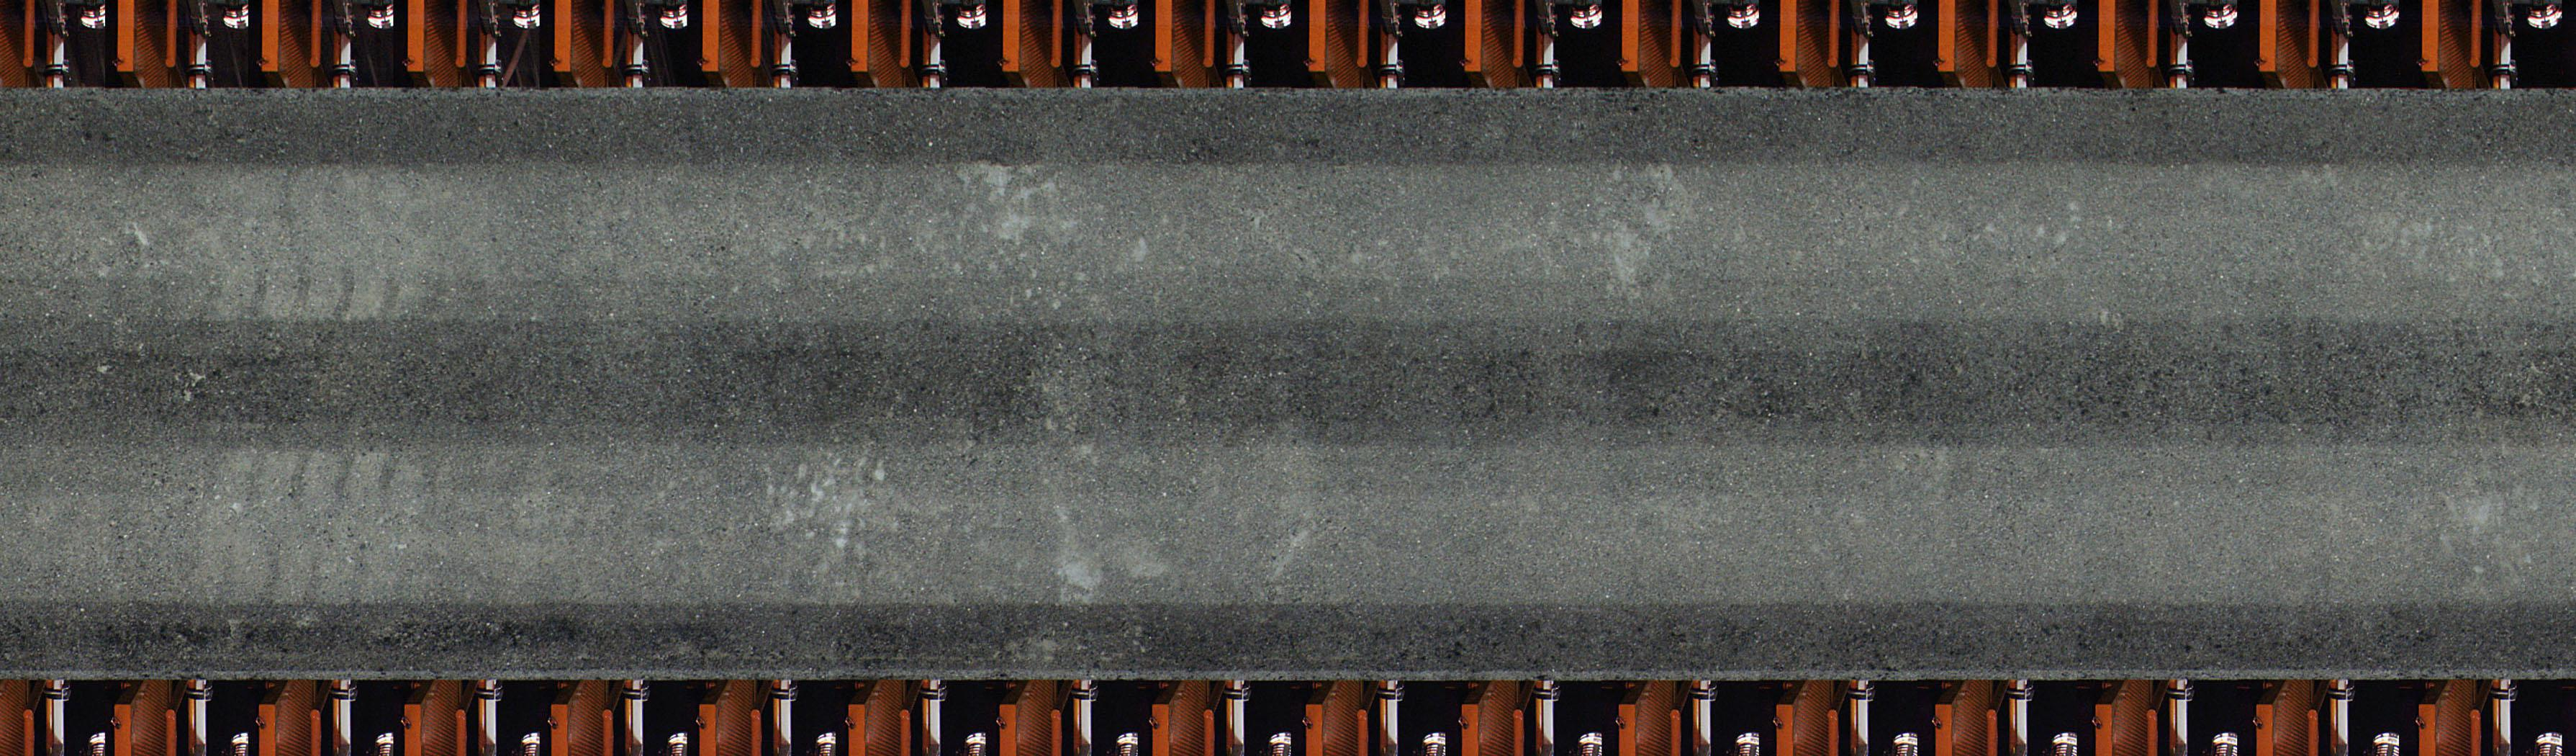concrete: (2, 94, 2561, 679)
